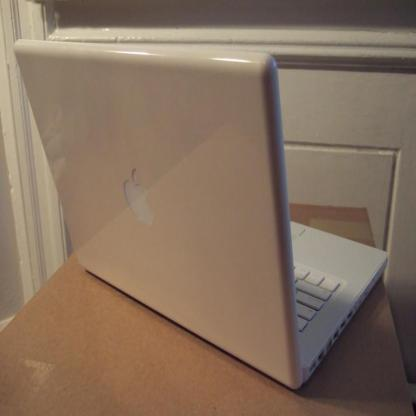board: (12, 39, 390, 392)
